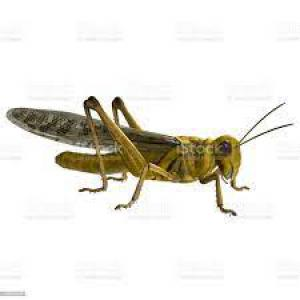locust: (8, 104, 292, 190)
